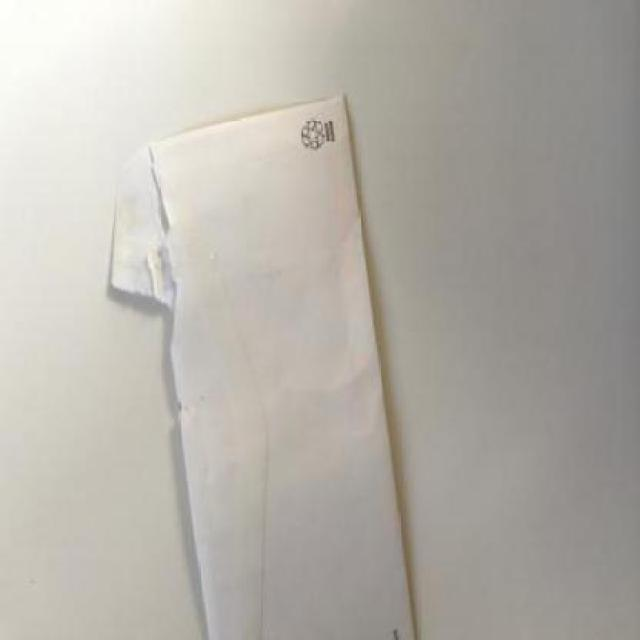paper: (108, 96, 415, 638)
